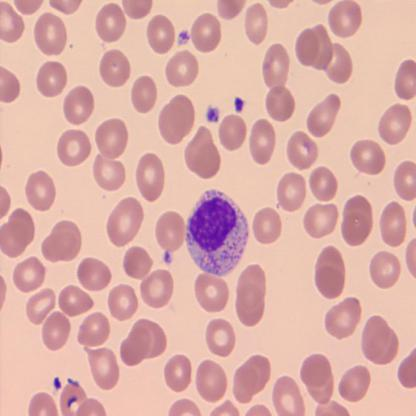Metamyelocyte: (185, 187, 249, 275)
